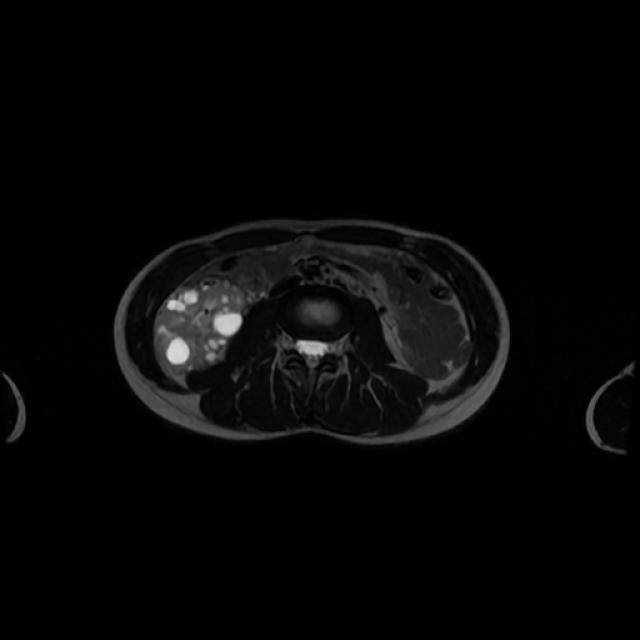sol: (154, 275, 249, 377)
